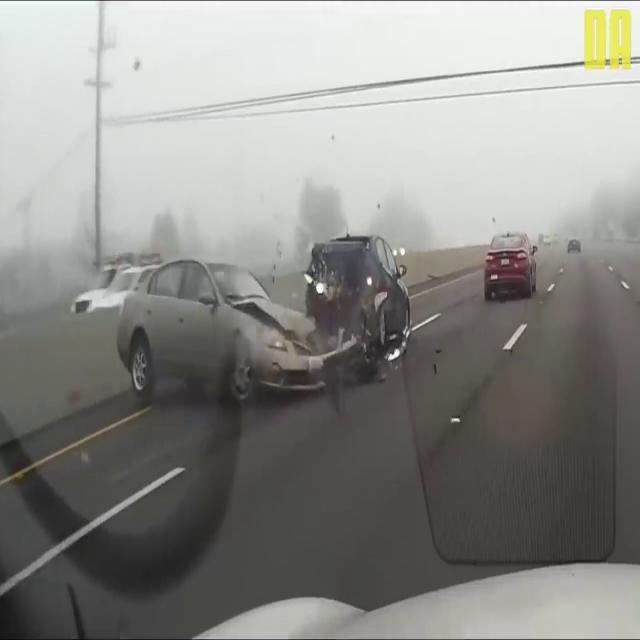accident: (118, 233, 414, 409)
